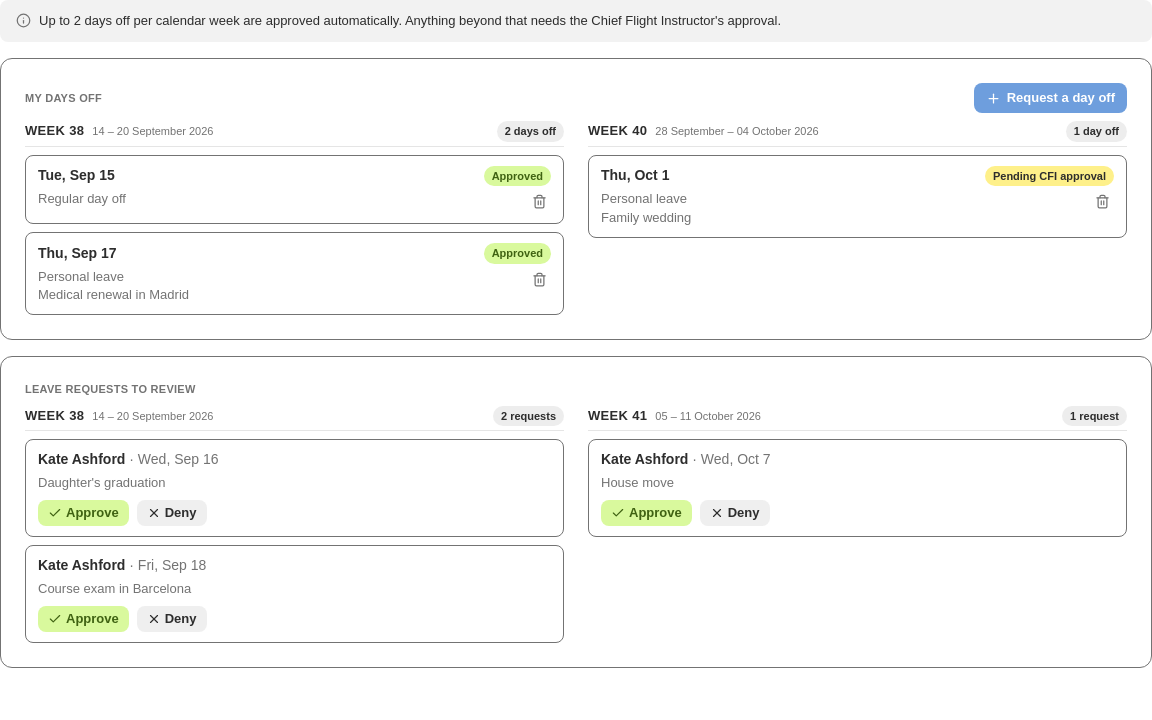
InstructorAvailability › lets the CFI approve another instructor’s pending request
The width and height of the screenshot is (1152, 720).
Check: the heading "Leave requests to review" is shown, box x1=25 y1=383 x2=196 y2=395
Check: the text "2 requests" is shown, box x1=493 y1=406 x2=564 y2=426
Click the button with aria-label "Approve Kate Ashford": (83, 513) x1=38 y1=500 x2=129 y2=526
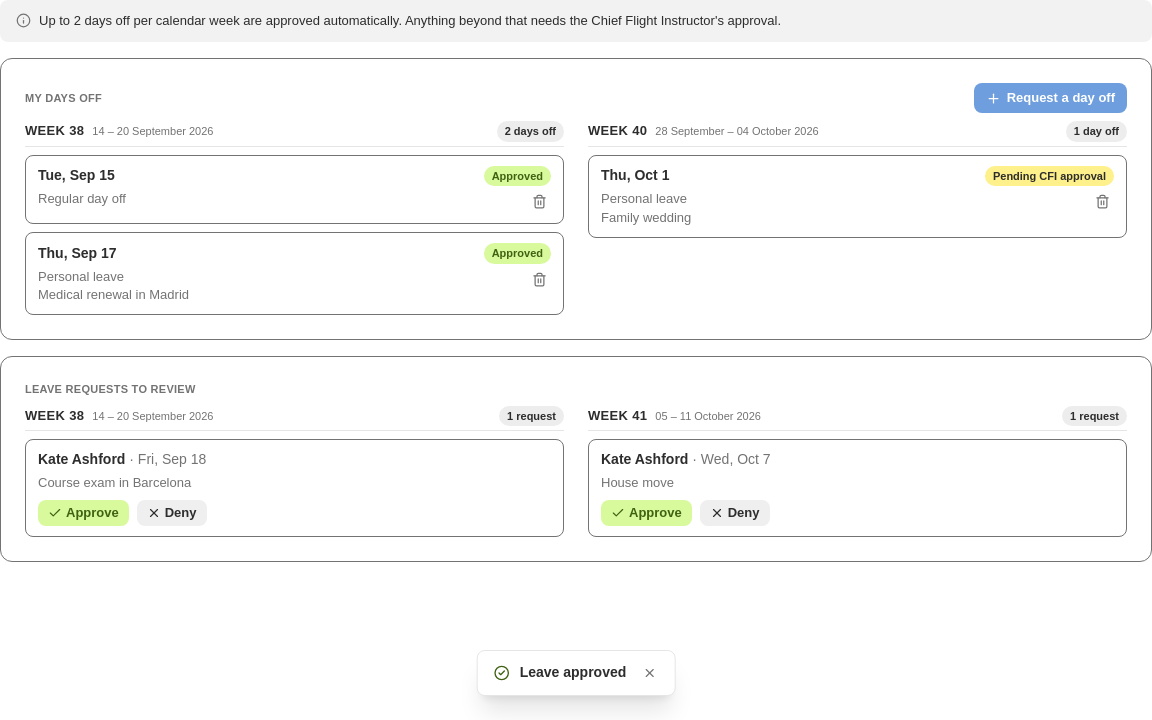
Check: the text "Leave approved" is shown, box x1=520 y1=663 x2=626 y2=683
Check: the text "Daughter's graduation" is gone
